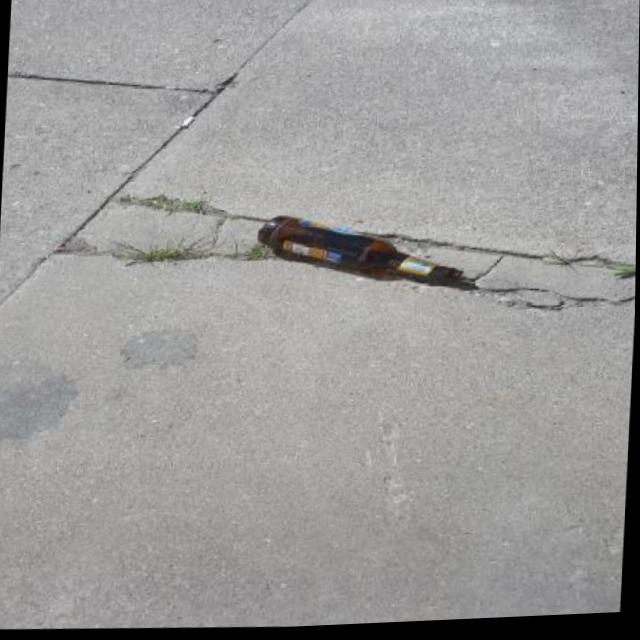glass: (221, 158, 299, 372)
